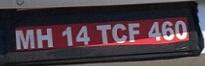0: (173, 18, 187, 39)
1: (60, 24, 74, 47)
4: (74, 24, 91, 44), (147, 20, 161, 41)
6: (160, 19, 174, 40)
C: (110, 22, 128, 43)
F: (127, 21, 140, 42)
H: (34, 26, 54, 48)
M: (13, 28, 34, 49)
T: (94, 23, 111, 43)
